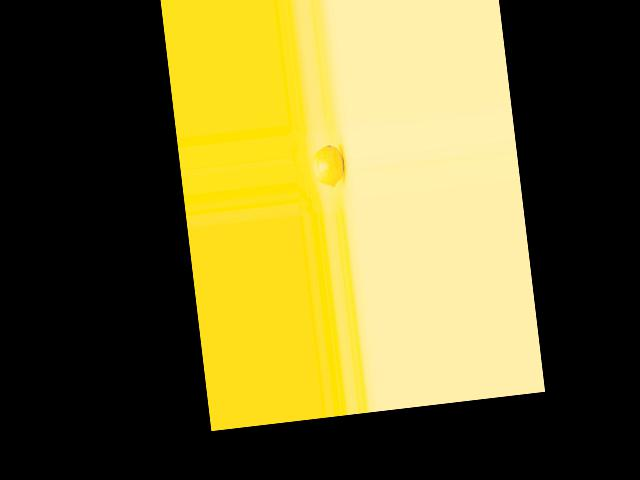lemon: (308, 139, 345, 196)
